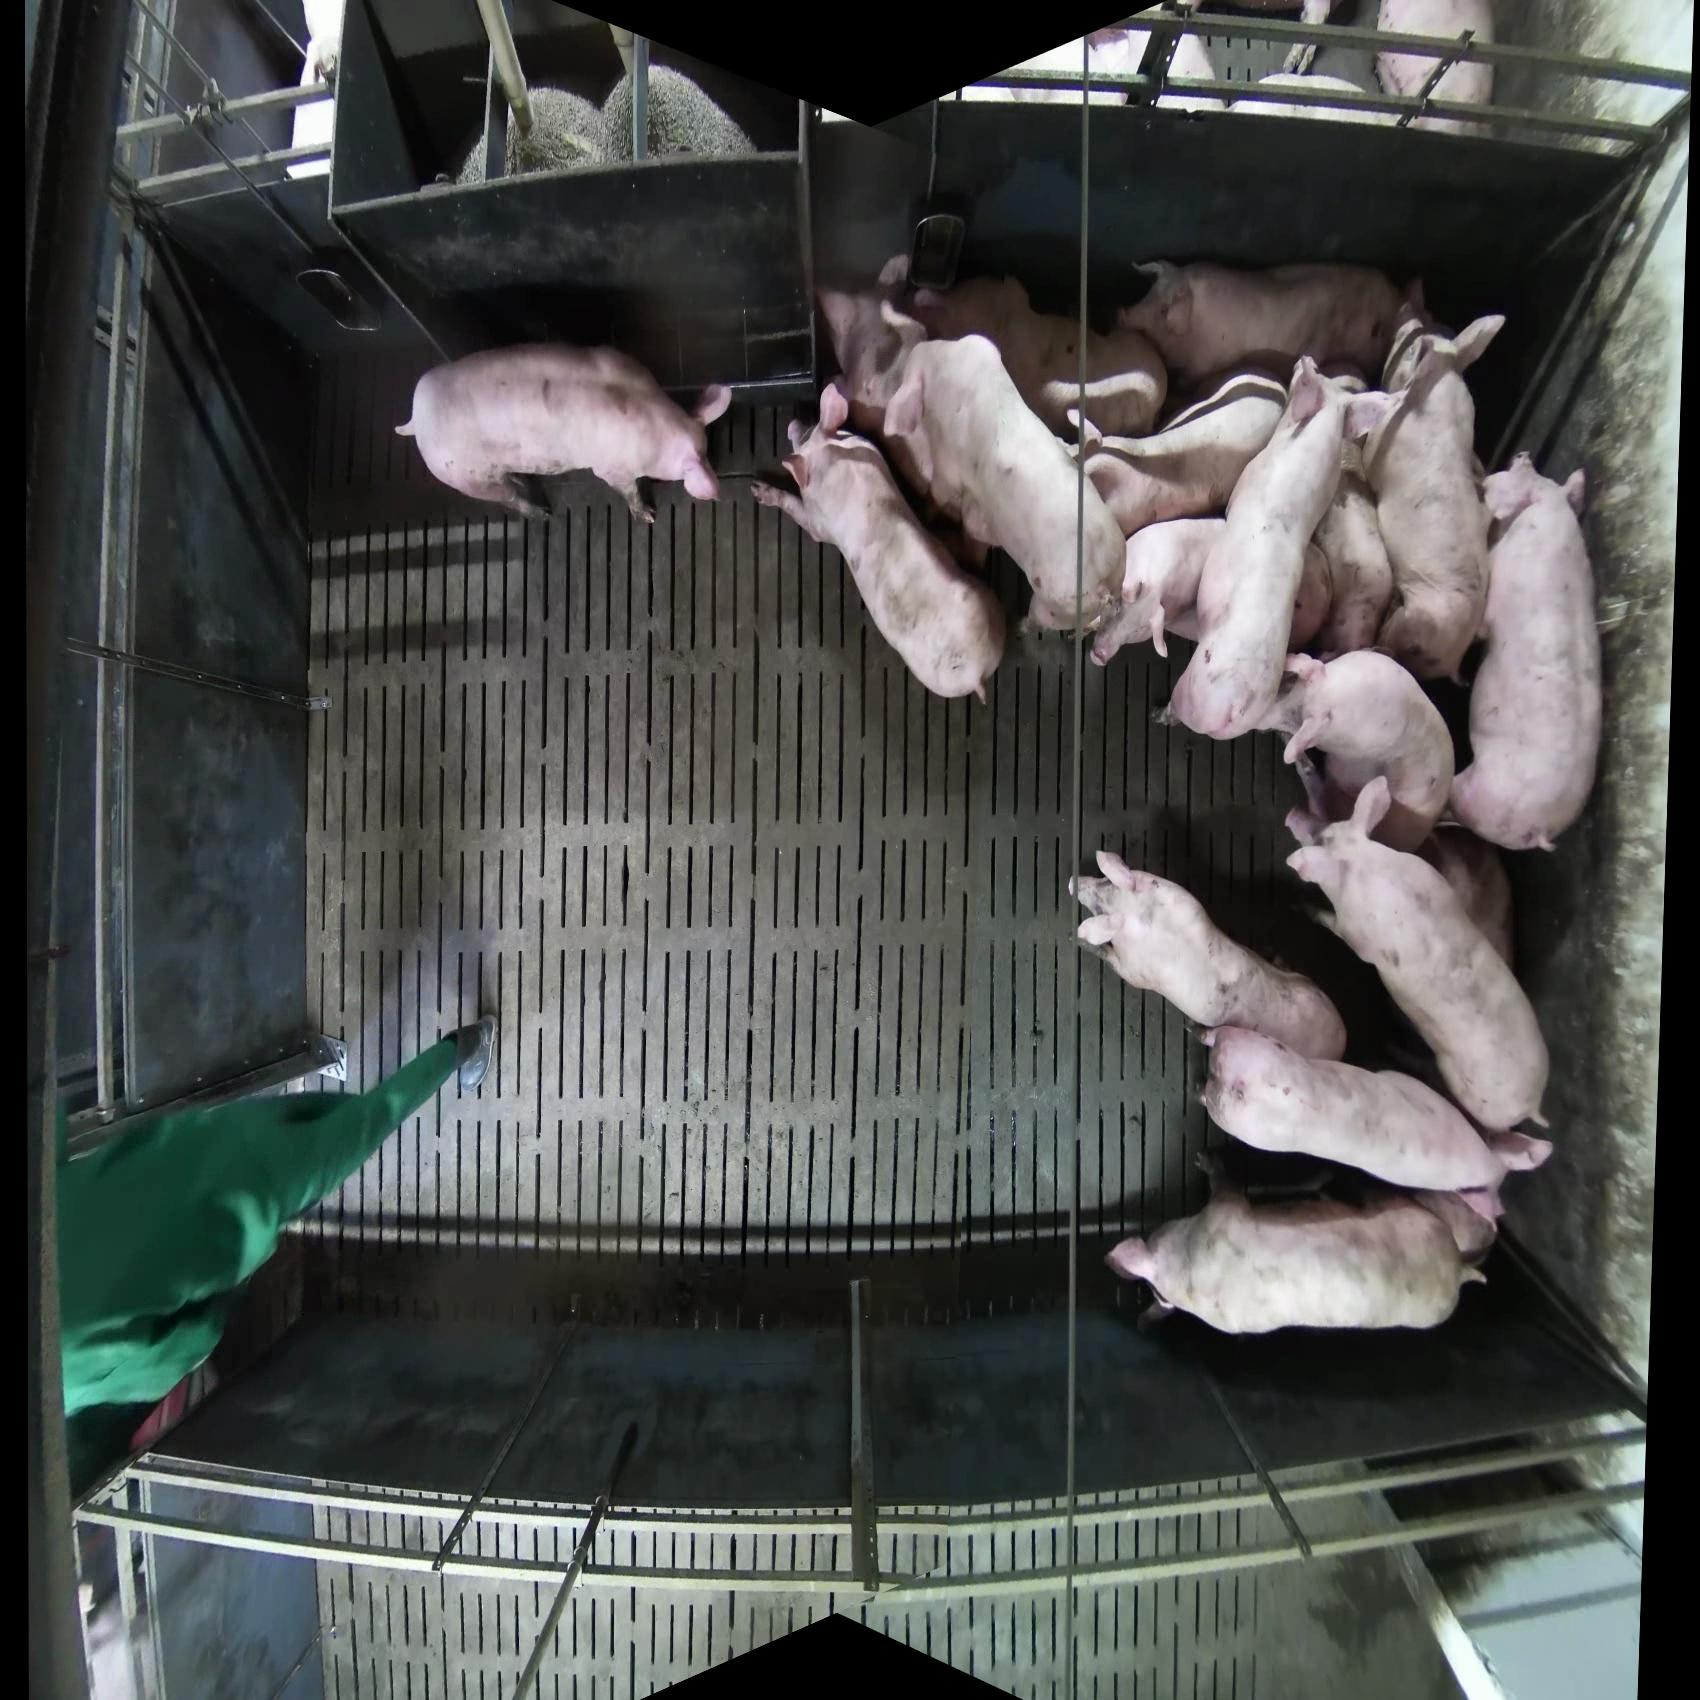pig: (1284, 777, 1554, 1140), (1153, 353, 1397, 742), (748, 379, 1009, 707), (879, 323, 1129, 639), (1105, 1148, 1496, 1337), (393, 341, 733, 528), (1449, 451, 1605, 854), (1197, 1025, 1554, 1198), (1069, 849, 1348, 1064), (1358, 310, 1507, 684), (905, 272, 1169, 446), (1284, 783, 1518, 976), (1116, 257, 1409, 391), (1086, 514, 1338, 669), (1271, 648, 1456, 854), (1068, 365, 1290, 536), (815, 267, 928, 426), (1375, 1, 1498, 137), (1421, 825, 1517, 973), (1086, 20, 1225, 114)
worker: (53, 1014, 495, 1501)
